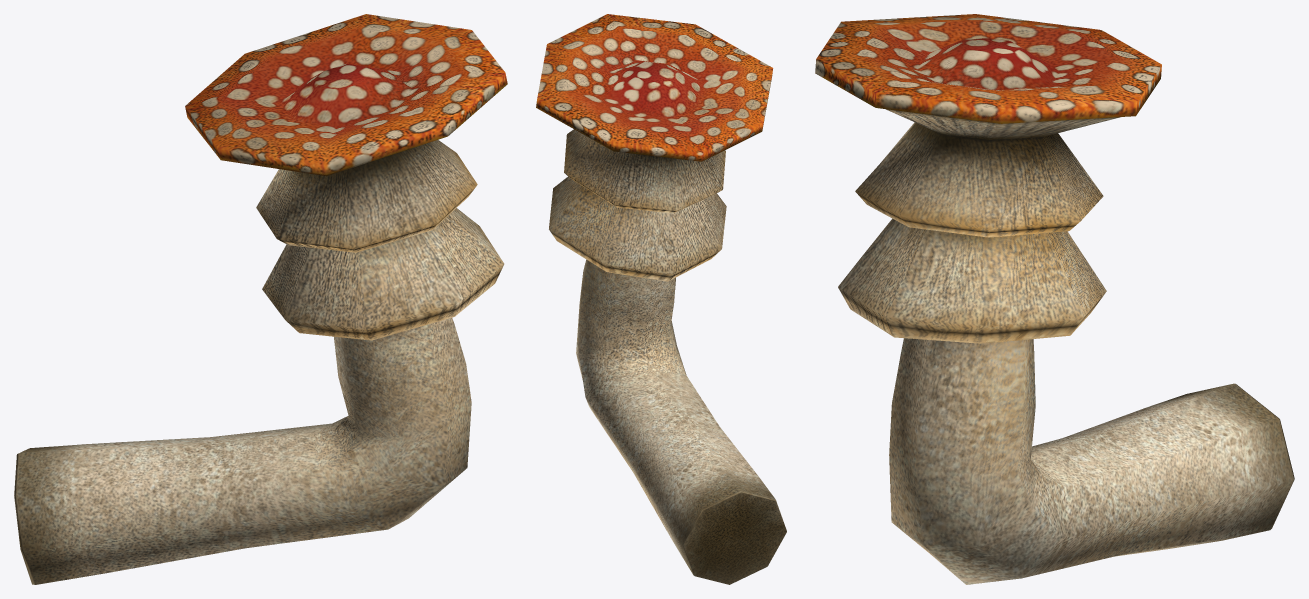
The model's file is HEAD_CHIBI_MUSHROOM.fbx.
3 views of the same model, side by side, from view 1: azimuth 30°, elevation 25°; view 2: azimuth 150°, elevation 25°; view 3: azimuth 270°, elevation 25° (orthographic). The views are drawn at different scales.
Parts seen in each view (by area): view 1: HEAD_CHIBI_MUSHROOM; view 2: HEAD_CHIBI_MUSHROOM; view 3: HEAD_CHIBI_MUSHROOM.
Part boxes in pixels (<box>): HEAD_CHIBI_MUSHROOM: <box>14,14,507,584</box>; HEAD_CHIBI_MUSHROOM: <box>536,14,786,584</box>; HEAD_CHIBI_MUSHROOM: <box>815,14,1294,584</box>.
Size of the model in its own units: 0.0203 by 0.0277 by 0.0195.
